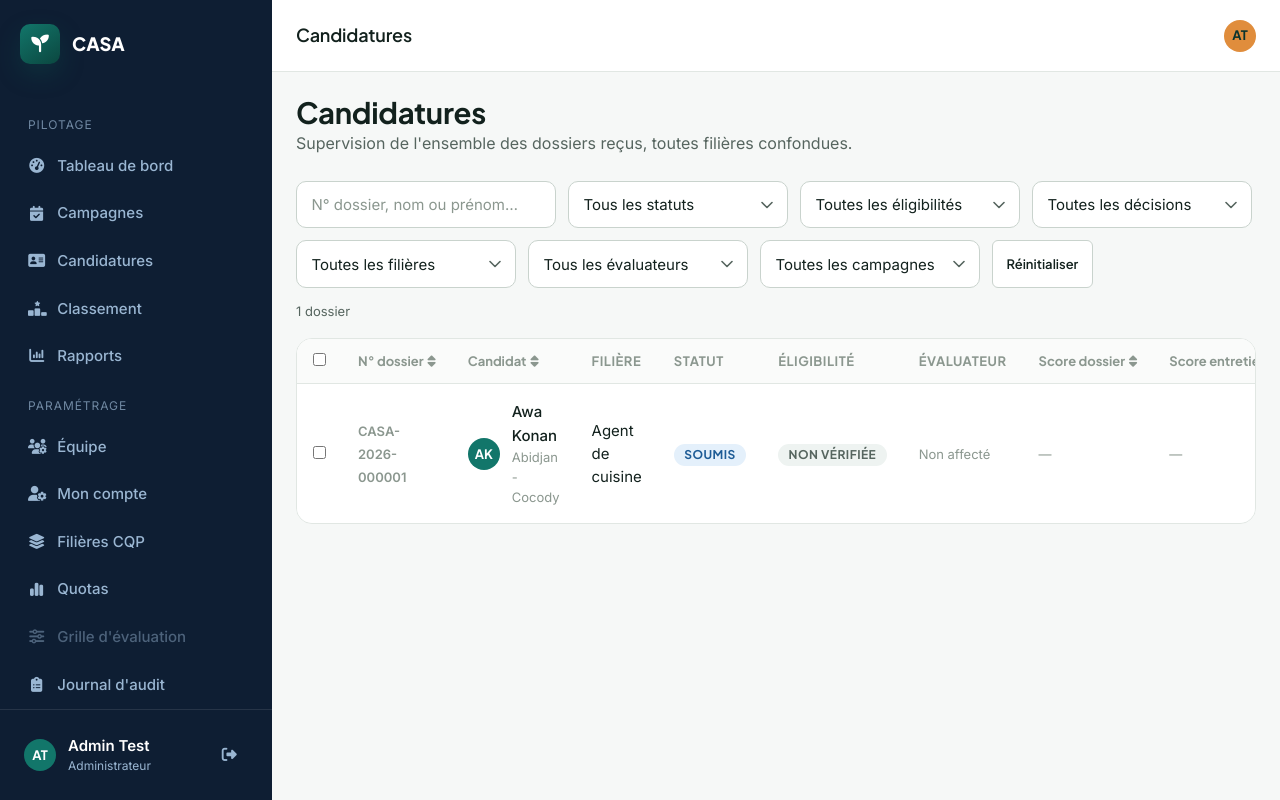
Test: CandidaturesSupervision — affectation en masse (atomique) › 422 atomique -> message VERBATIM affiché, sélection PRÉSERVÉE (le modal reste ouvert)
Expected: the text "CASA-2026-000001" is shown, [358,423,406,485]
Click the checkbox named "sélectionner casa-2026-000001".
click(320, 453)  # box [313,446,326,459]
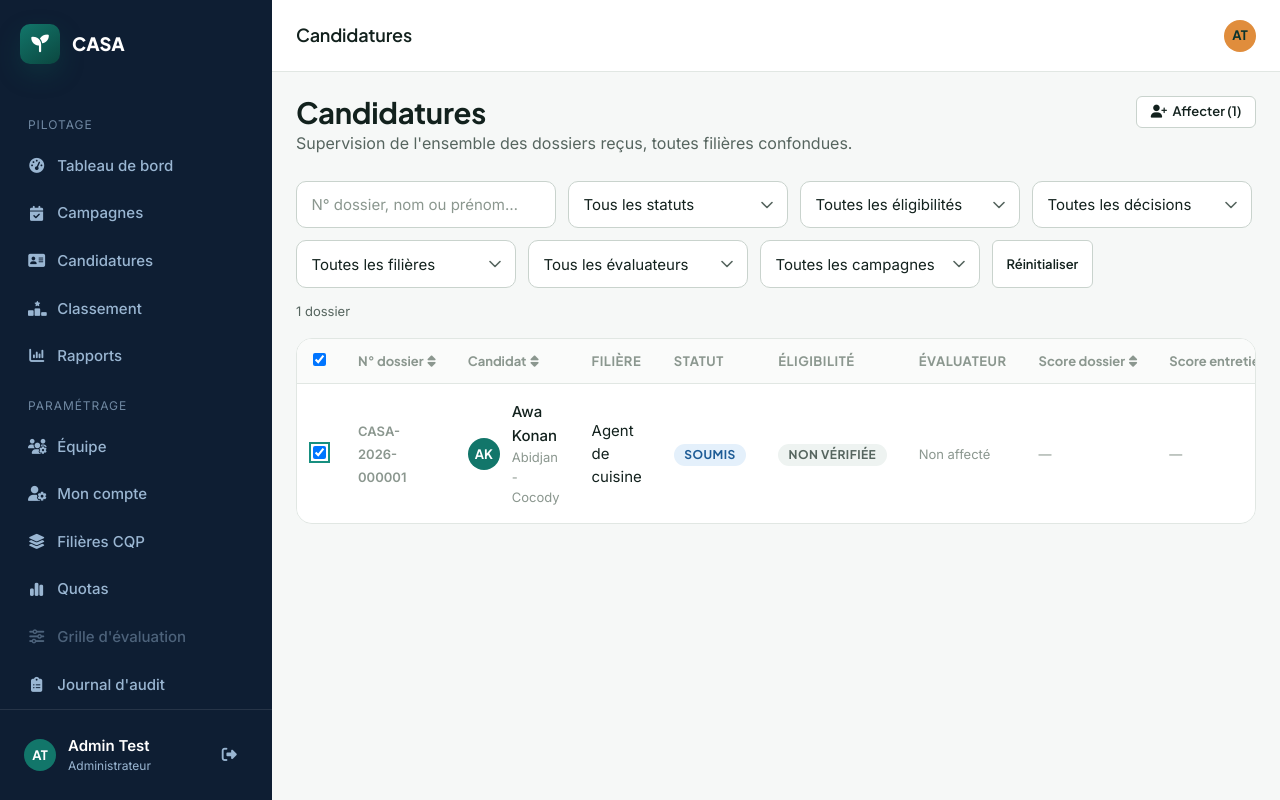
Click the button "Affecter (1)".
click(1196, 112)  # box [1136,96,1256,128]
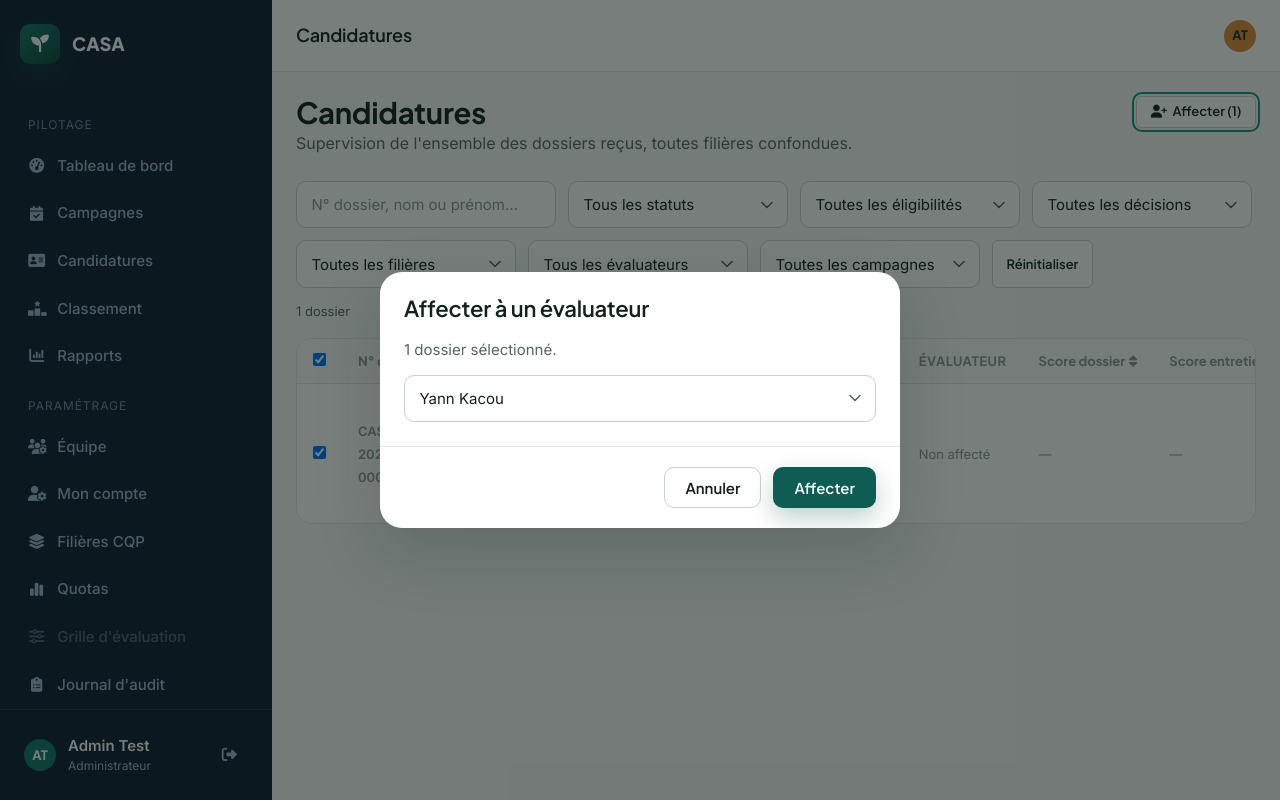
Select "Yann Kacou" in the dropdown named "Évaluateur" at (640, 398), box [404,375,876,422]
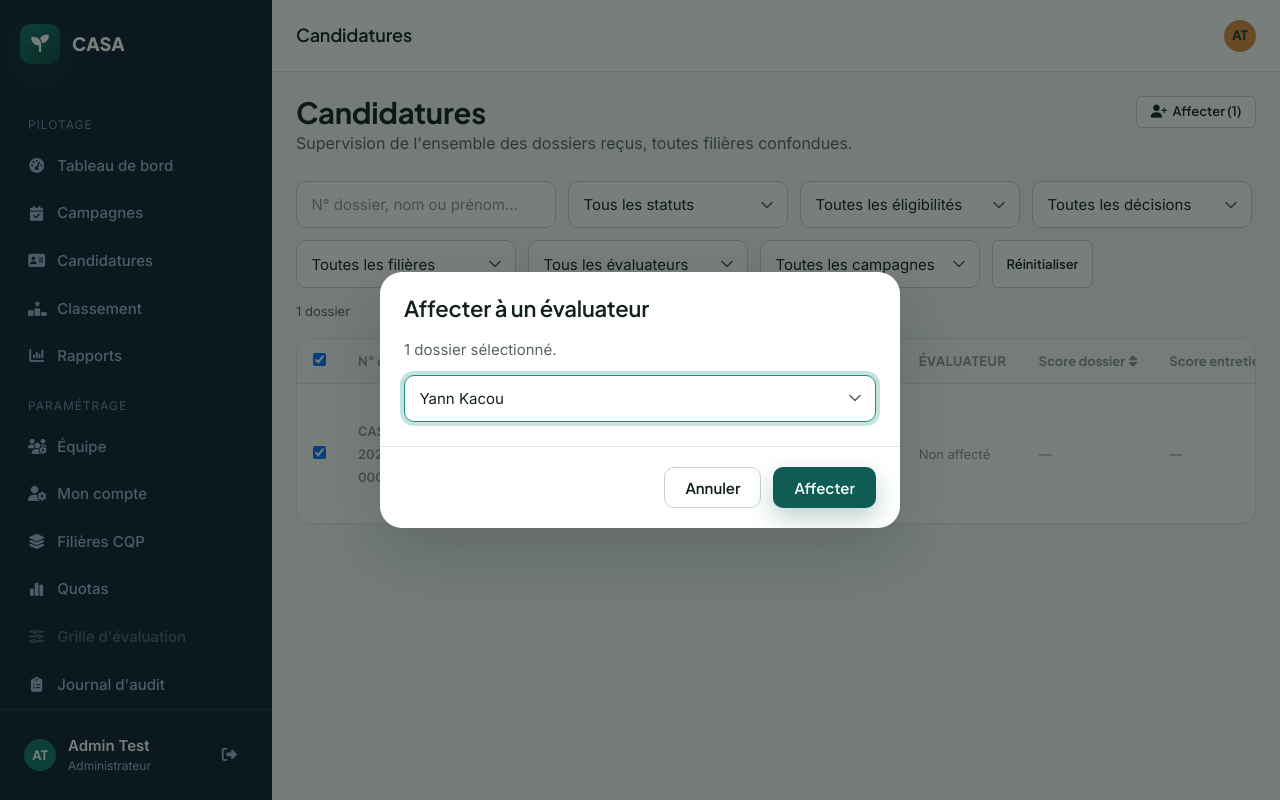
Click the button "Affecter".
click(825, 488)  # box [774,467,876,508]
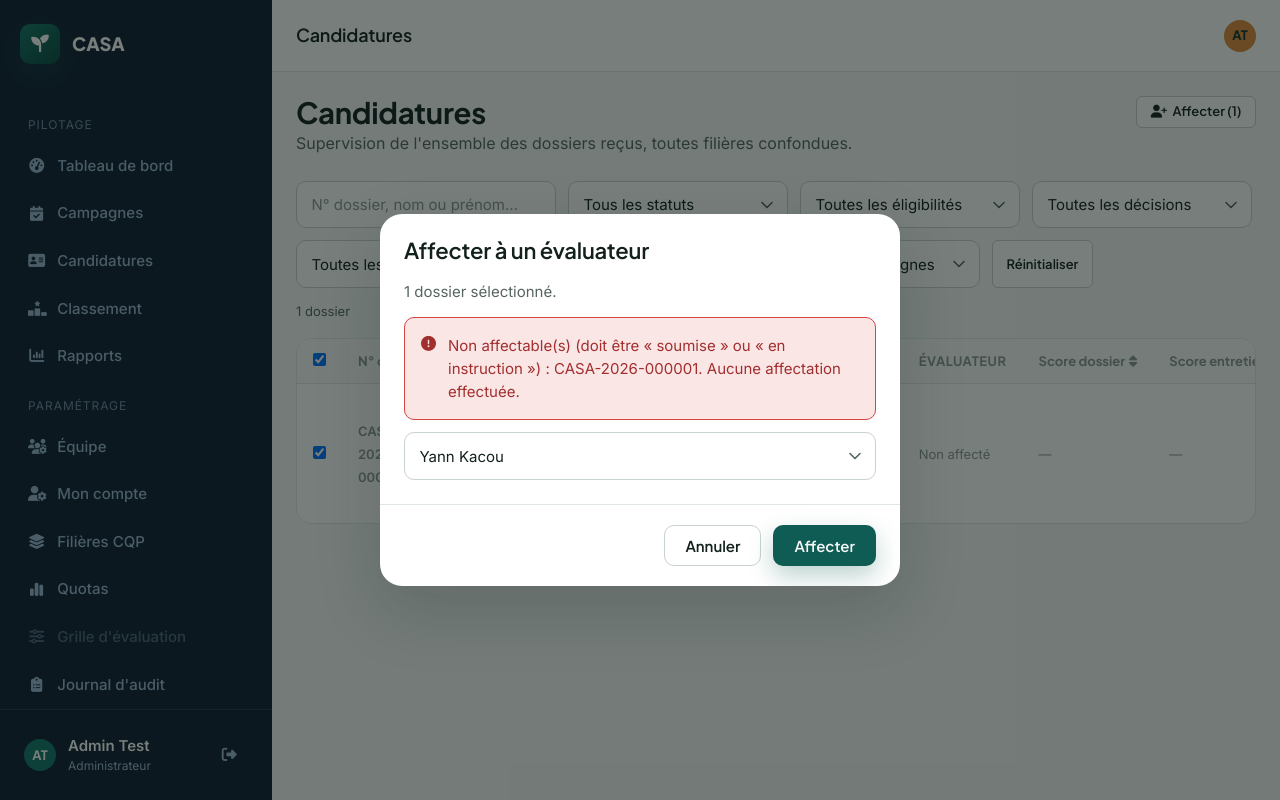
Expected: the dialog "Affecter à un évaluateur" is shown
Expected: the message shows "aucune affectation effectuée", [448,336,841,401]
Expected: the message shows "CASA-2026-000001", [448,336,841,401]
